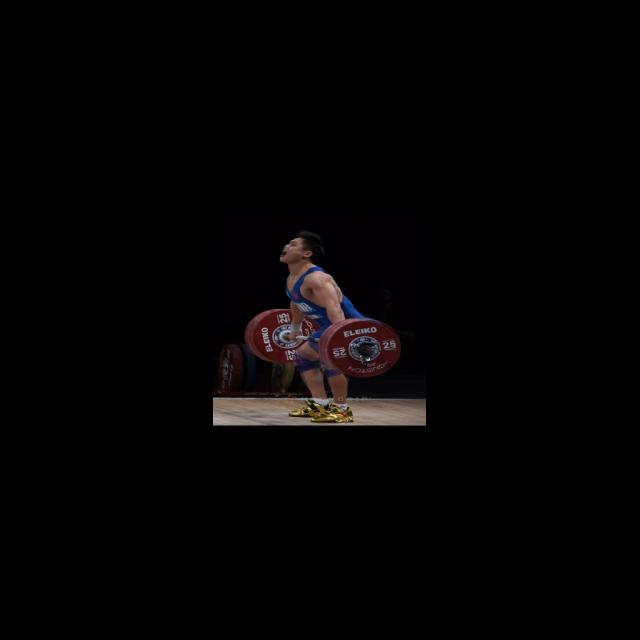barbell: (325, 318, 402, 379)
